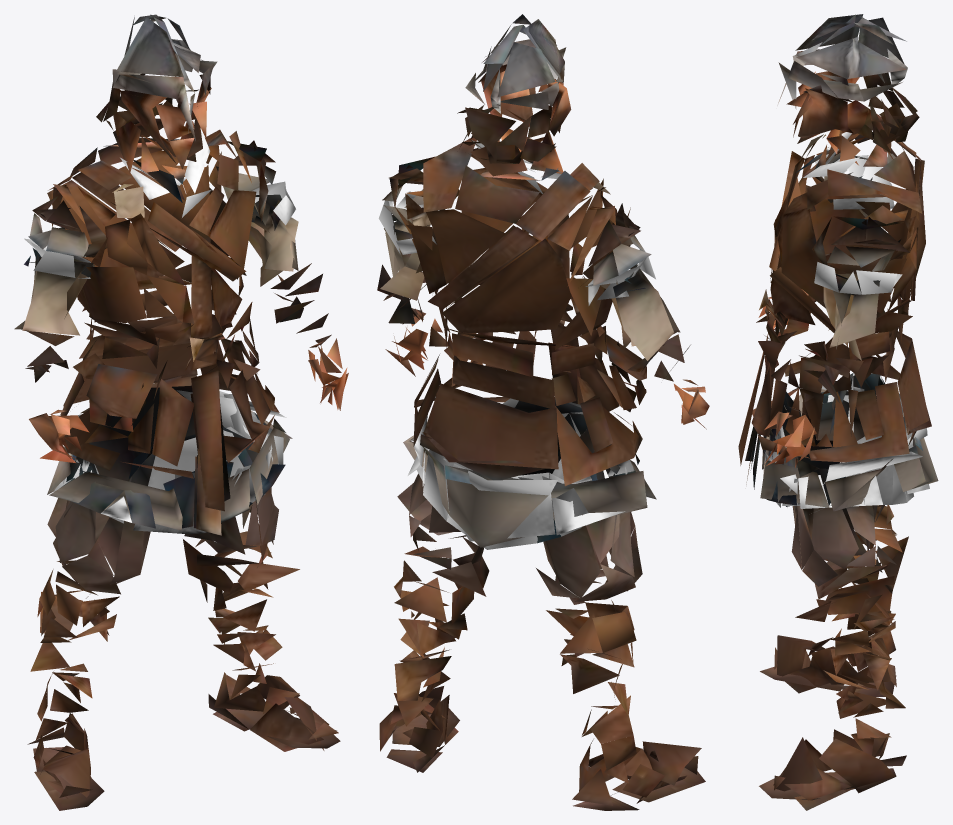
File: swordsman_viking_lod.glb
The picture shows the model from 3 angles, left to right: view 1: azimuth 30°, elevation 25°; view 2: azimuth 150°, elevation 25°; view 3: azimuth 270°, elevation 25°; orthographic projection. The views are drawn at different scales.
Parts seen in each view (by area): view 1: titus; view 2: titus; view 3: titus.
Part boxes in pixels (x1,y1,x2,y2): titus: (14,14,348,810); titus: (377,14,709,810); titus: (738,14,938,810).
Bounding box in the file's own units: 0.8153 × 1.84 × 0.4635.
Materials: 2 (2 with a texture image).
